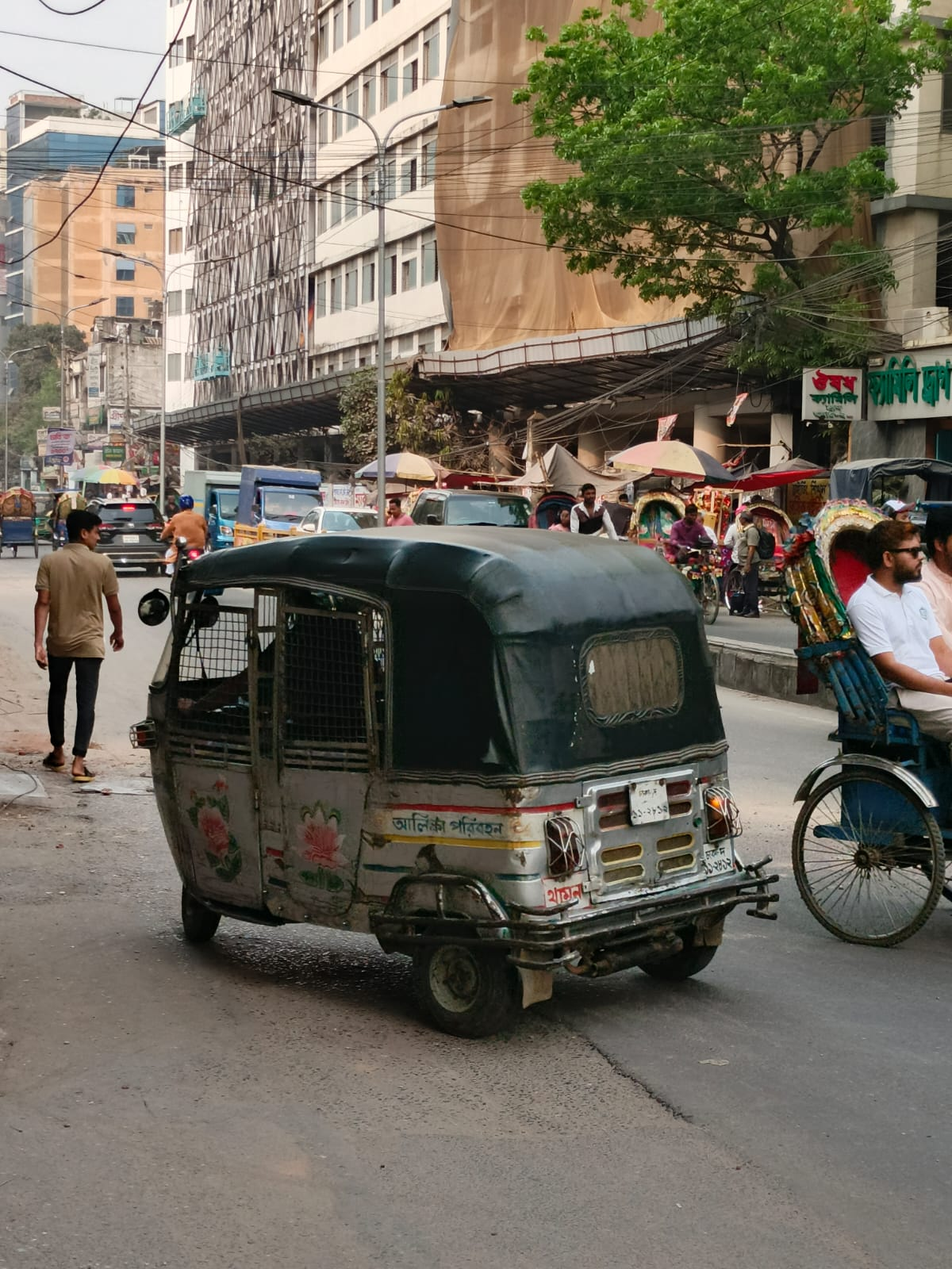cng: (131, 505, 788, 1031)
